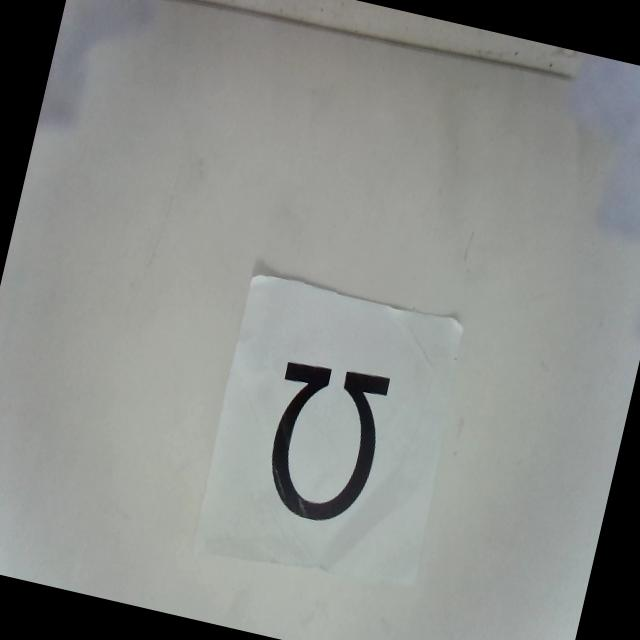OM: (252, 351, 397, 530)
